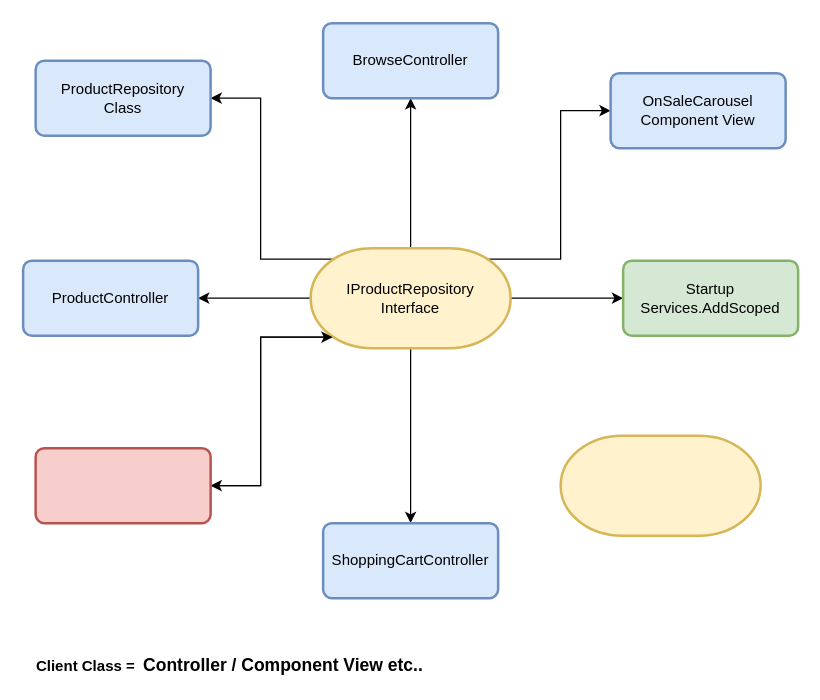
The diagram is 820 pixels wide and 700 high, and some of its shapes have lost their labels. Each missing label, with the centre of its shape:
ICategoryRepository Interface: pixel 660 485
Public "Client Class" (IProductRepository productRepository): pixel 122 485
